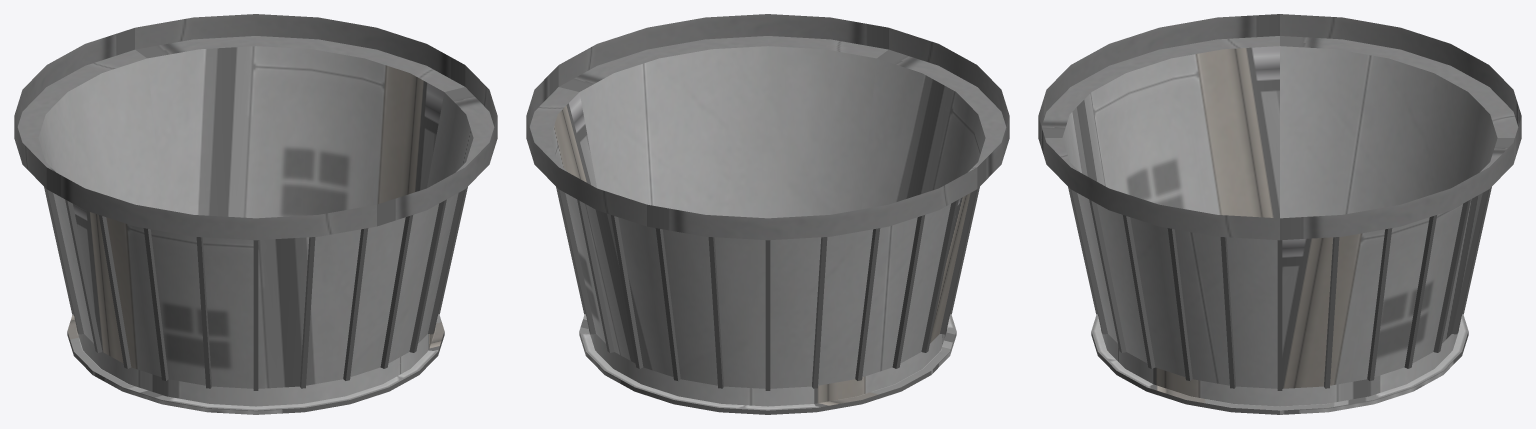
Rendered from ALV_2_Engine_1.obj.
3 views of the same model, side by side, from view 1: azimuth 30°, elevation 25°; view 2: azimuth 150°, elevation 25°; view 3: azimuth 270°, elevation 25° (orthographic).
Parts seen in each view (by area): view 1: ALV_2_Engine_1; view 2: ALV_2_Engine_1; view 3: ALV_2_Engine_1.
Boxes of the visible parts, x1,y1,x2,y2 form: ALV_2_Engine_1: (14,14,497,414); ALV_2_Engine_1: (526,14,1009,414); ALV_2_Engine_1: (1038,14,1521,414).
Bounding box in the file's own units: 2.5 × 1.25 × 2.5.
